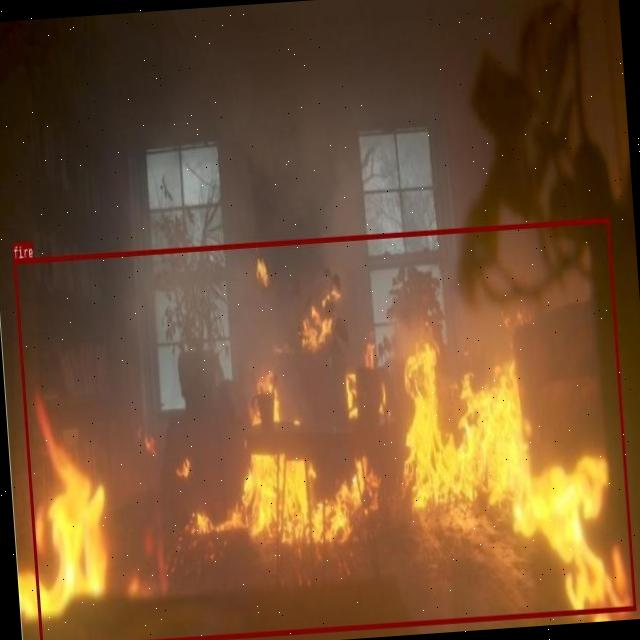fire: (12, 216, 635, 640)
